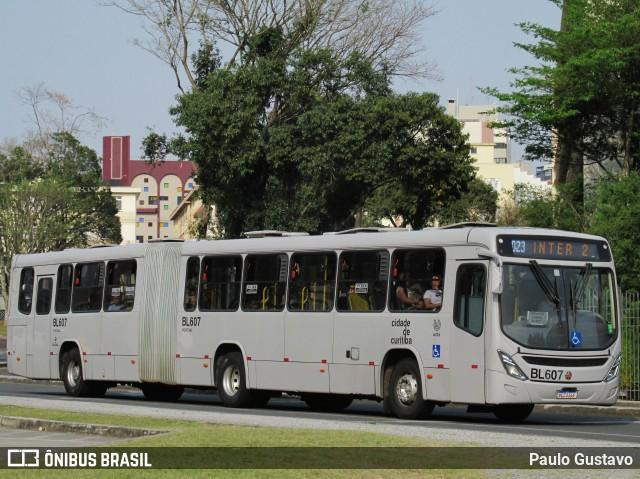INTER2: (531, 238, 592, 260)
